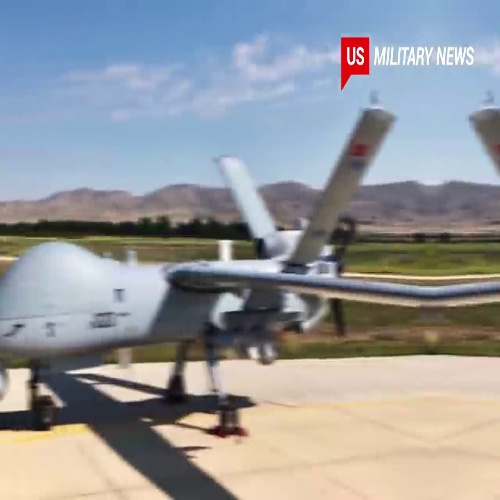uav: (4, 109, 500, 396)
